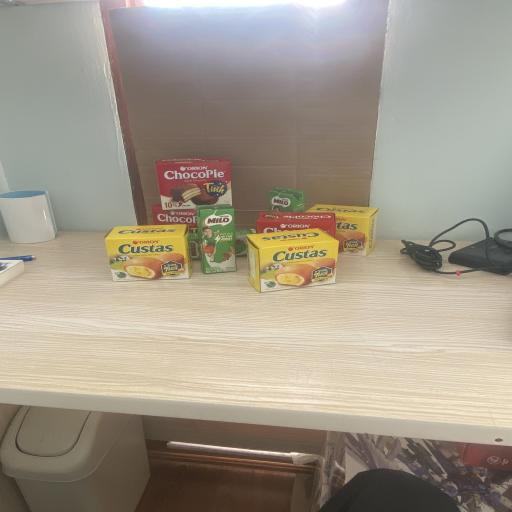chocopie: (158, 159, 233, 211), (256, 211, 336, 239), (152, 204, 198, 234)
custas: (248, 229, 338, 293), (105, 229, 189, 279), (306, 204, 378, 256)
milo: (196, 204, 237, 274), (189, 232, 257, 258), (266, 187, 306, 212)
